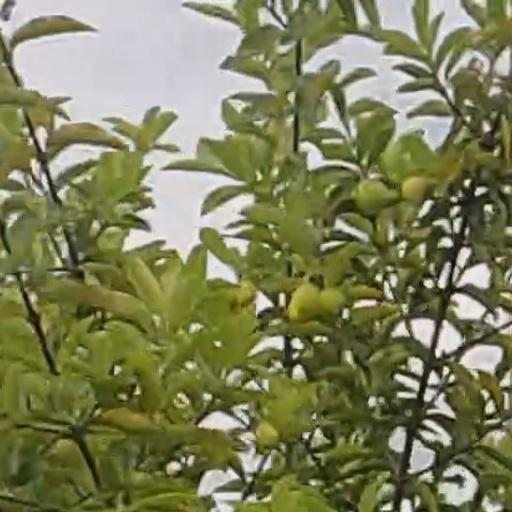acerola: (290, 284, 315, 319), (357, 181, 385, 210), (321, 293, 344, 318), (258, 426, 276, 448)
